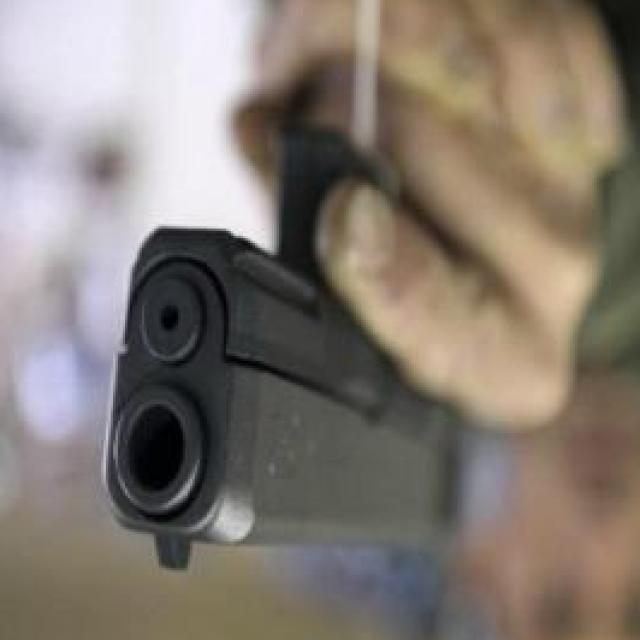pistol: (101, 128, 458, 575)
